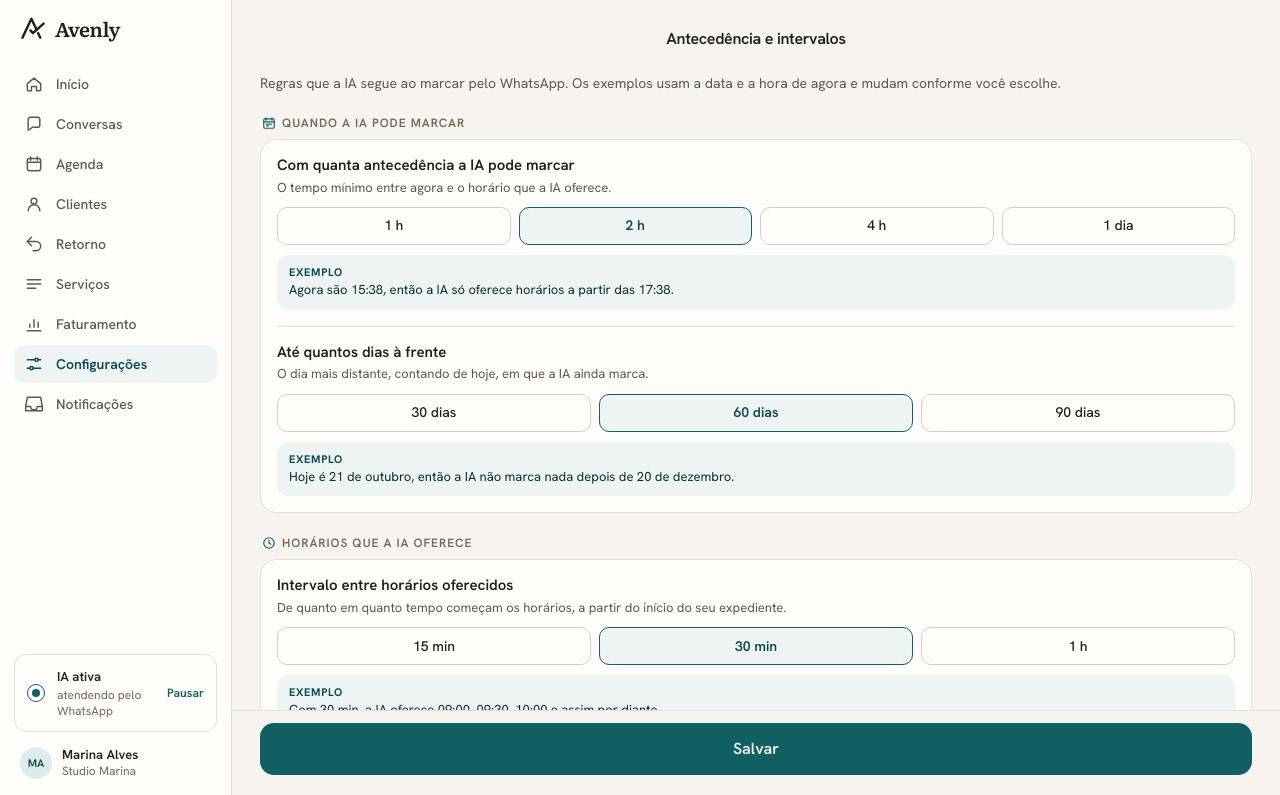
Test: Goal097 prova 3: AG3 — /configuracoes/agenda/regras › um único Salvar envia um só PATCH com os quatro campos, o timezone lido e as rules lidas
This screenshot has width=1280, height=795.
Click the radio button labelled "4 h" at (877, 226), box [760, 207, 994, 245]
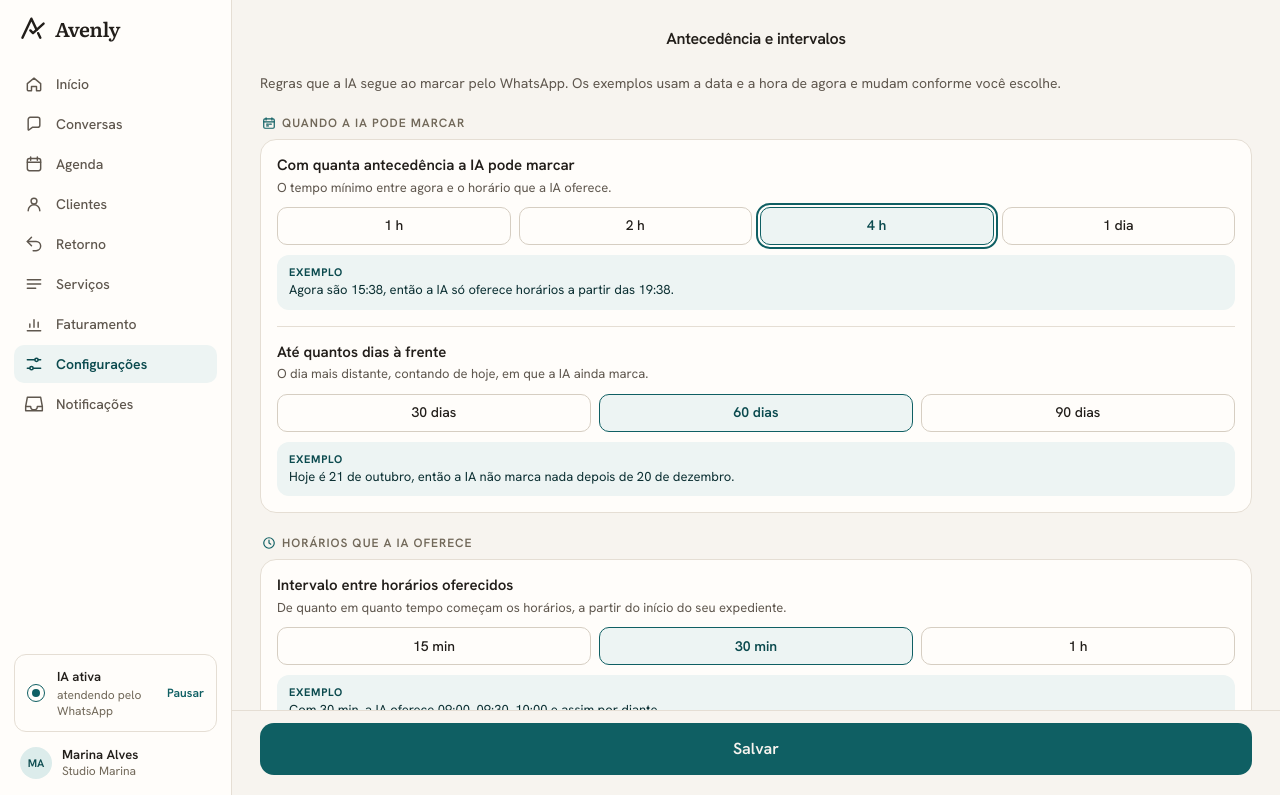
Click the radio button labelled "90 dias" at (1078, 412), box [921, 394, 1235, 432]
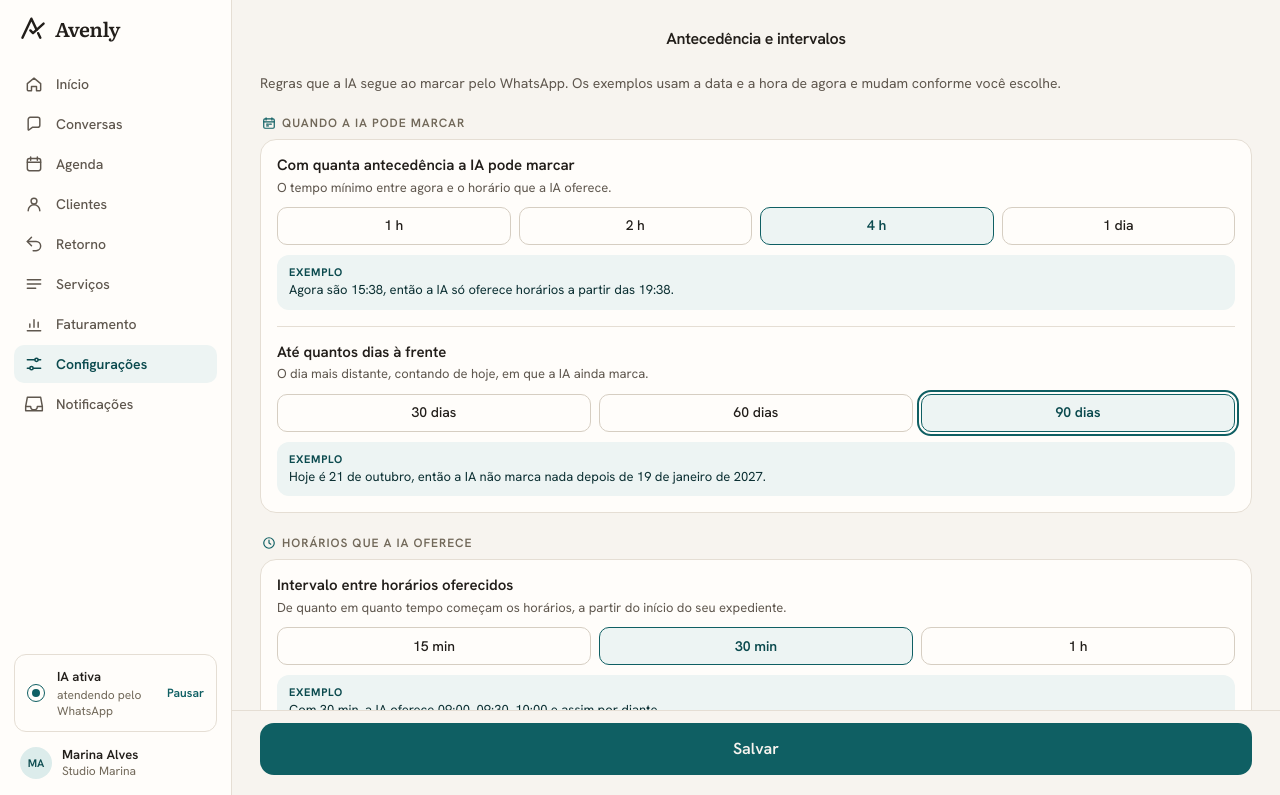
Click the radio button labelled "15 min" at (434, 646), box [277, 627, 591, 665]
(page scrolled)
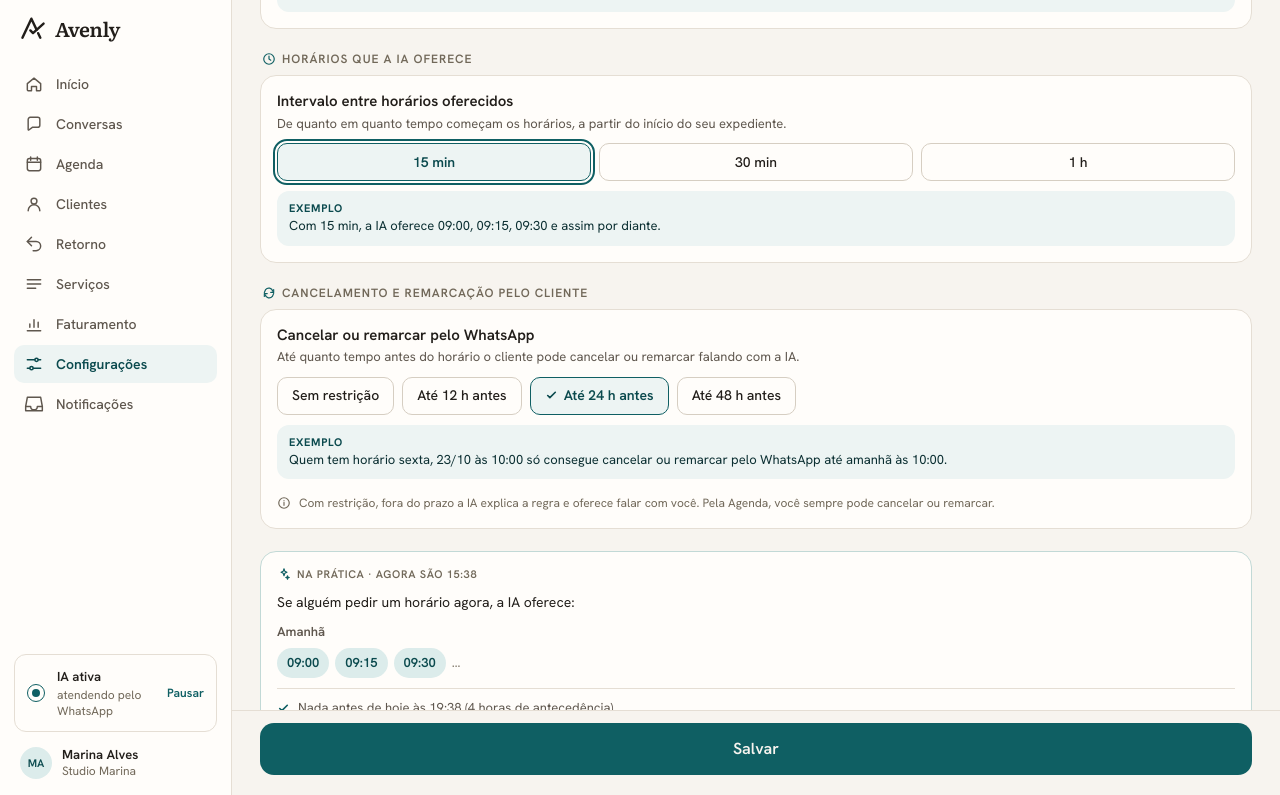
Click the radio button labelled "Até 12 h antes" at (462, 396), box [402, 377, 522, 415]
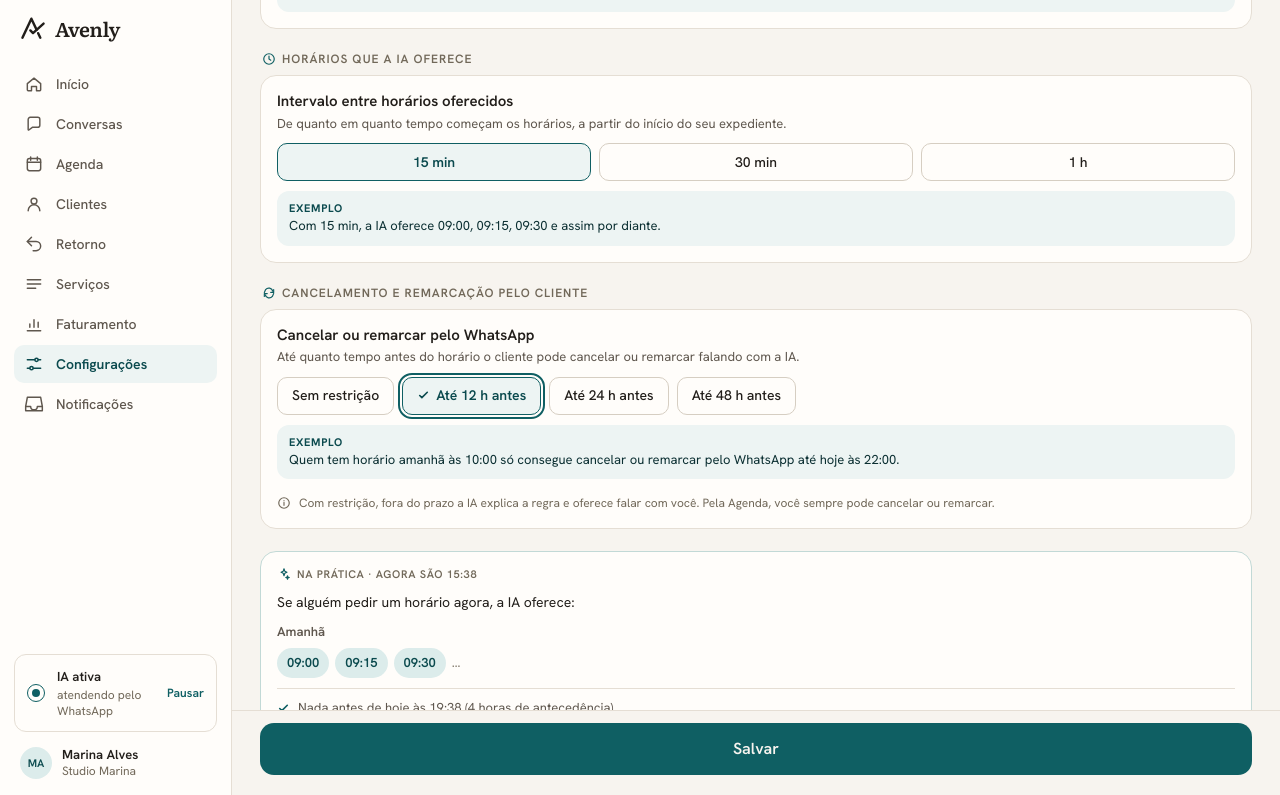
Click the button "Salvar" at (756, 749), box [260, 723, 1252, 775]
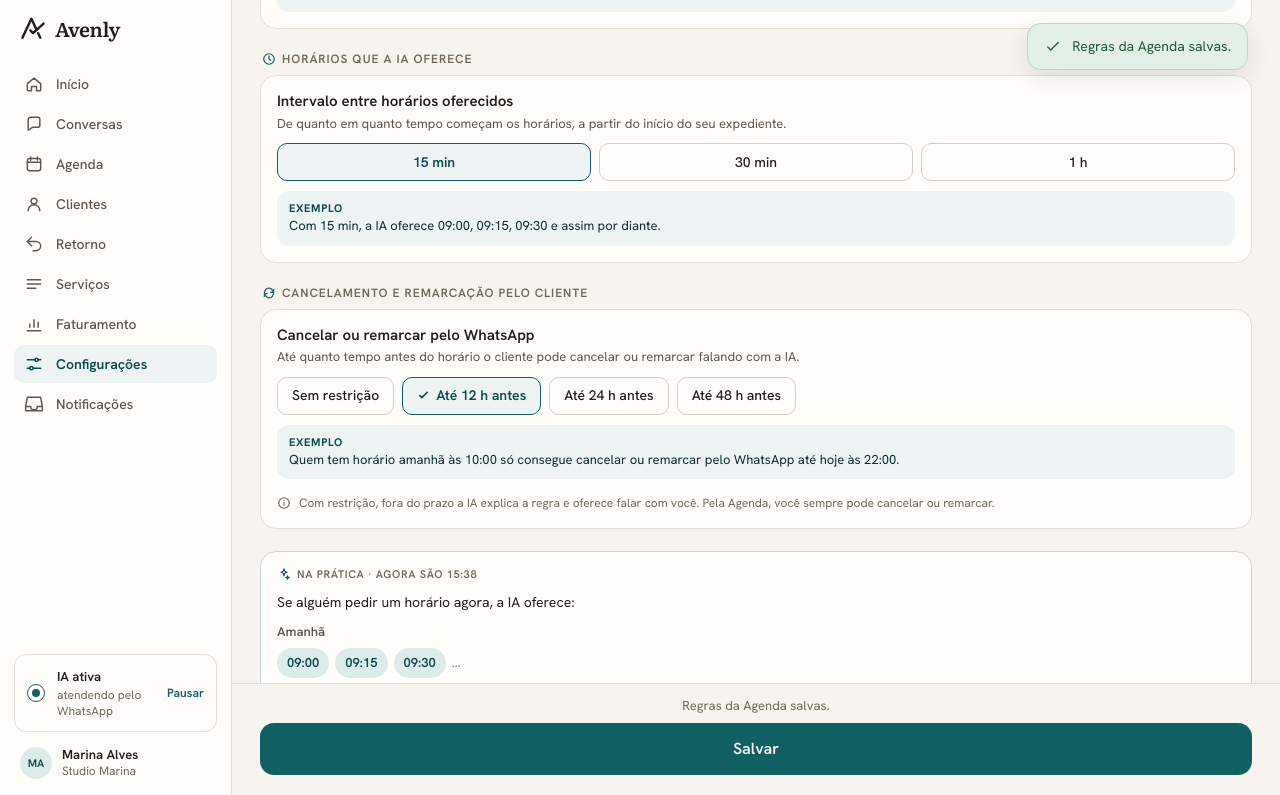
Now the text "Regras da Agenda salvas." below "Na prática · agora são" is shown, box [682, 696, 830, 714]
